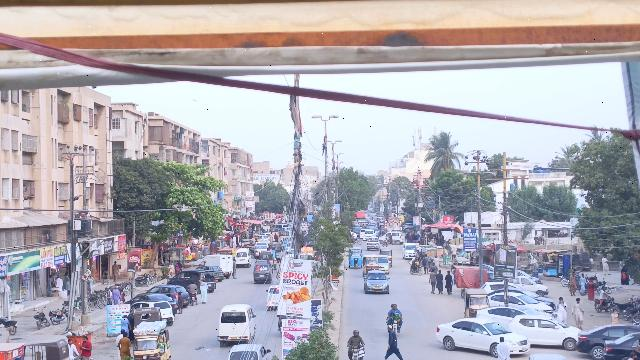Bike: (348, 343, 366, 360), (388, 317, 405, 332), (189, 292, 198, 307)
Car: (435, 317, 528, 355), (509, 312, 580, 349), (576, 322, 631, 356), (602, 333, 640, 360), (364, 270, 390, 295)
Person: (383, 323, 402, 360), (493, 331, 510, 360), (117, 331, 132, 360), (571, 297, 585, 327), (347, 328, 366, 348), (199, 278, 209, 306), (444, 269, 454, 296), (427, 267, 437, 294), (556, 296, 567, 320), (388, 301, 402, 319), (568, 271, 578, 296), (435, 269, 444, 296), (80, 335, 90, 357), (120, 313, 130, 335), (579, 271, 588, 294), (187, 279, 199, 294)
Rickshaw: (132, 322, 172, 360), (460, 288, 489, 315), (134, 305, 160, 325), (348, 247, 363, 270), (362, 253, 379, 272)
Van: (217, 304, 259, 346), (253, 259, 273, 285)
